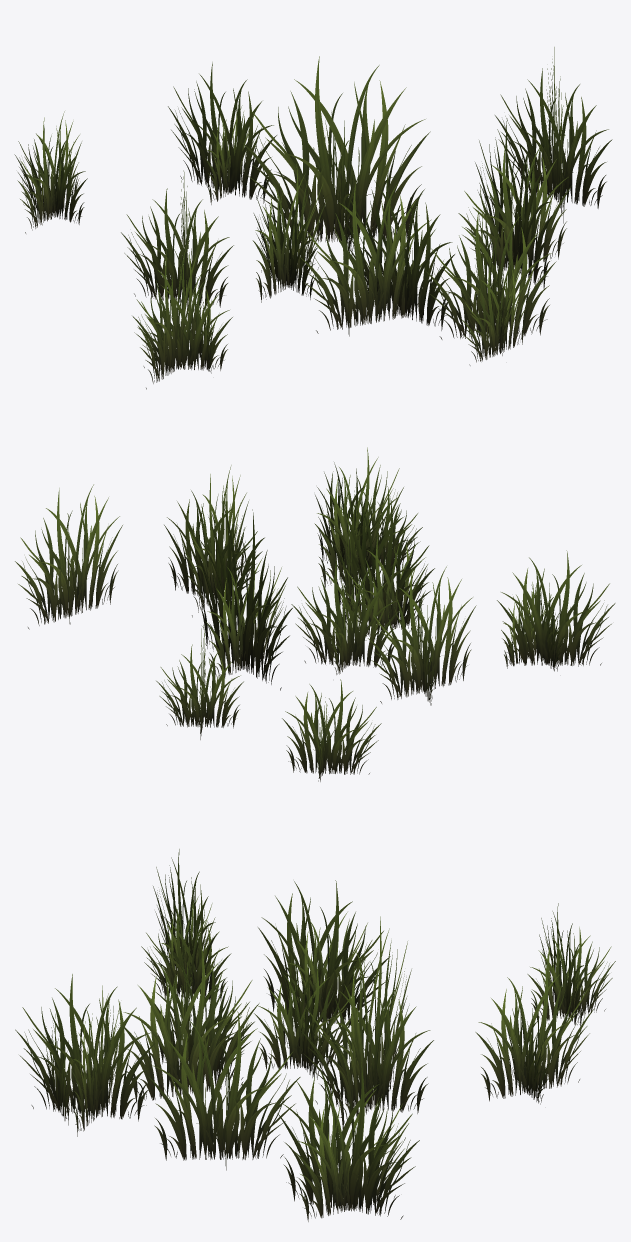
The model's file is Grass_08.fbx.
3 views of the same model, one above another, from view 1: azimuth 30°, elevation 25°; view 2: azimuth 150°, elevation 25°; view 3: azimuth 270°, elevation 25° (orthographic). The views are drawn at different scales.
Parts seen in each view (by area): view 1: Grass_08; view 2: Grass_08; view 3: Grass_08.
Boxes of the visible parts, left/top/right/bottom form: Grass_08: left=14, top=47, right=612, bottom=389; Grass_08: left=15, top=447, right=615, bottom=781; Grass_08: left=15, top=849, right=615, bottom=1221.
Bounding box in the file's own units: 3.43 × 3.24 × 1.15.
